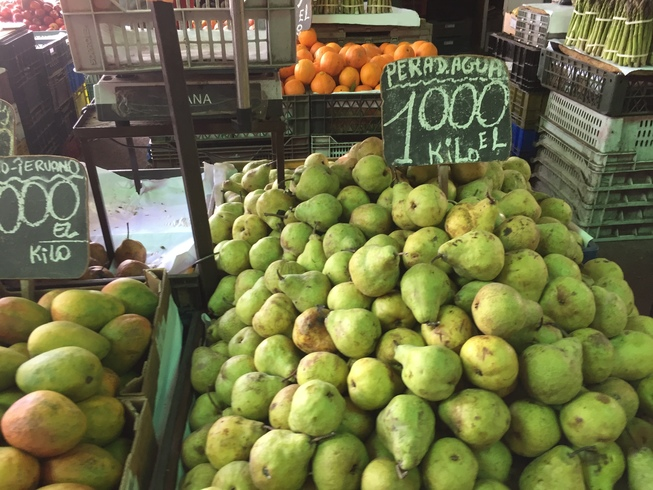precio: (380, 56, 516, 163), (1, 153, 92, 284)
